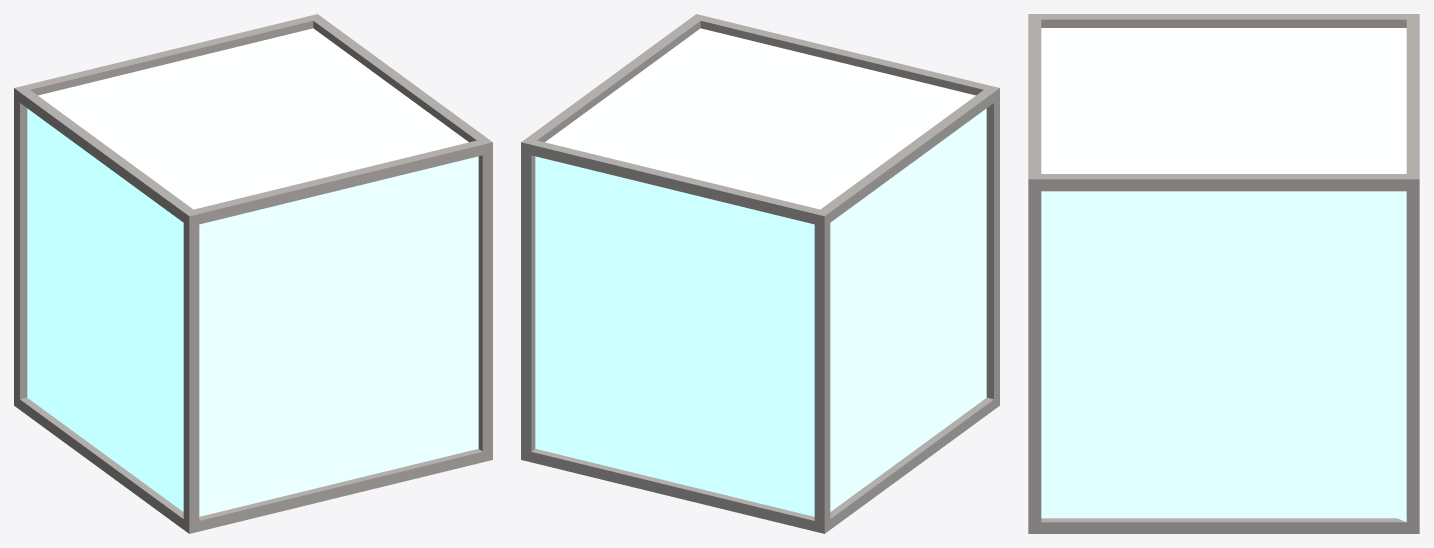
File: tesseract.gltf
The picture shows the model from 3 angles, left to right: view 1: azimuth 30°, elevation 25°; view 2: azimuth 150°, elevation 25°; view 3: azimuth 270°, elevation 25°; orthographic projection. The views are drawn at different scales.
Visible parts, largest first — view 1: CSGCombiner3D2; view 2: CSGCombiner3D2; view 3: CSGCombiner3D2.
Part boxes in pixels (x1,y1,x2,y2): CSGCombiner3D2: (14, 14, 492, 533); CSGCombiner3D2: (521, 14, 999, 533); CSGCombiner3D2: (1028, 14, 1419, 533).
Bounding box in the file's own units: 0.315 × 0.315 × 0.315.
